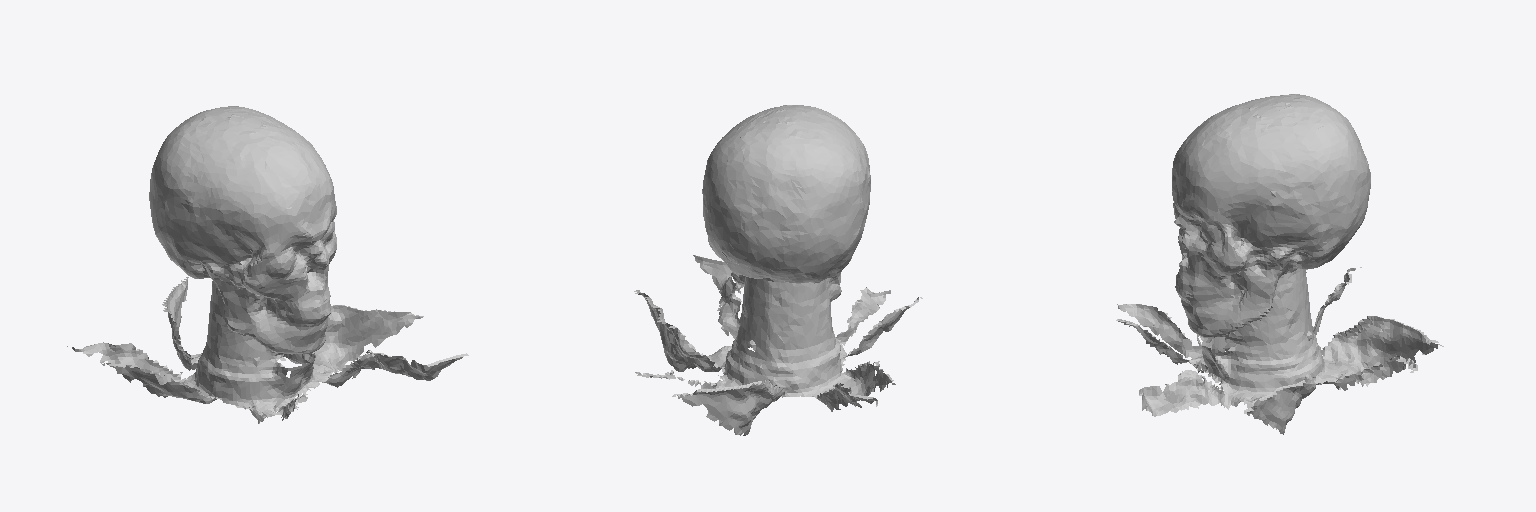
The model's file is skull3.obj.
3 views of the same model, side by side, from view 1: azimuth 30°, elevation 25°; view 2: azimuth 150°, elevation 25°; view 3: azimuth 270°, elevation 25° (orthographic).
Bounding box in the file's own units: 0.3069 × 0.2764 × 0.2896.